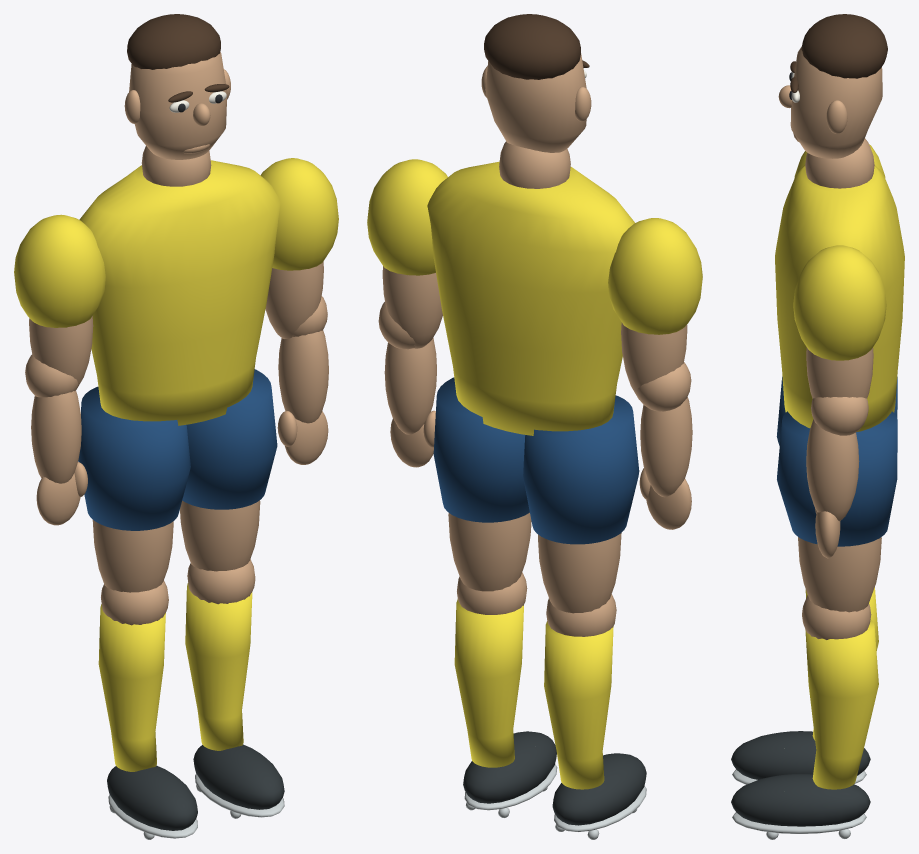
Rendered from footballer.glb.
3 renders of one model, left to right at view 1: azimuth 30°, elevation 25°; view 2: azimuth 150°, elevation 25°; view 3: azimuth 270°, elevation 25°, orthographic. The views are drawn at different scales.
Visible parts, largest first — view 1: ShirtMesh, LeftShorts, RightShorts, LeftSleeve, RightSock, LeftSock, HeadMesh, RightSleeve, LeftThigh, RightThigh, RightBoot, LeftBoot (+14 smaller); view 2: ShirtMesh, LeftShorts, RightShorts, LeftSock, RightSock, LeftSleeve, RightSleeve, HeadMesh, HairCap, LeftThigh, RightThigh, LeftBoot (+14 smaller); view 3: ShirtMesh, RightSock, RightSleeve, RightShorts, HeadMesh, RightBoot, RightThigh, HairCap, RightForearmMesh, LeftBoot, RightUpperArm, Neck (+6 smaller).
Boxes of the visible parts, x1,y1,x2,y2 form: ShirtMesh: [79, 160, 280, 425]; LeftShorts: [78, 386, 190, 530]; RightShorts: [182, 369, 277, 509]; LeftSleeve: [14, 214, 105, 327]; RightSock: [185, 583, 252, 750]; LeftSock: [98, 604, 165, 771]; HeadMesh: [129, 52, 227, 159]; RightSleeve: [260, 158, 338, 270]; LeftThigh: [92, 520, 173, 592]; RightThigh: [180, 500, 260, 571]; RightBoot: [193, 744, 284, 809]; LeftBoot: [107, 765, 197, 830]; ShirtMesh: [427, 161, 634, 435]; LeftShorts: [523, 395, 639, 544]; RightShorts: [433, 377, 529, 522]; LeftSock: [544, 621, 613, 789]; RightSock: [454, 599, 523, 767]; LeftSleeve: [608, 218, 702, 334]; RightSleeve: [367, 159, 447, 275]; HeadMesh: [485, 53, 586, 152]; HairCap: [484, 14, 580, 79]; LeftThigh: [538, 533, 621, 613]; RightThigh: [448, 512, 531, 591]; LeftBoot: [552, 753, 646, 825]; ShirtMesh: [775, 165, 904, 431]; RightSock: [805, 620, 878, 789]; RightSleeve: [793, 245, 886, 360]; RightShorts: [777, 411, 897, 546]; HeadMesh: [790, 46, 882, 158]; RightBoot: [731, 774, 870, 826]; RightThigh: [798, 537, 881, 612]; HairCap: [801, 14, 887, 78]; RightForearmMesh: [806, 419, 859, 521]; LeftBoot: [731, 731, 870, 779]; RightUpperArm: [806, 347, 873, 398]; Neck: [805, 138, 874, 188].
Size of the model in its own units: 0.76 by 1.81 by 0.361.
